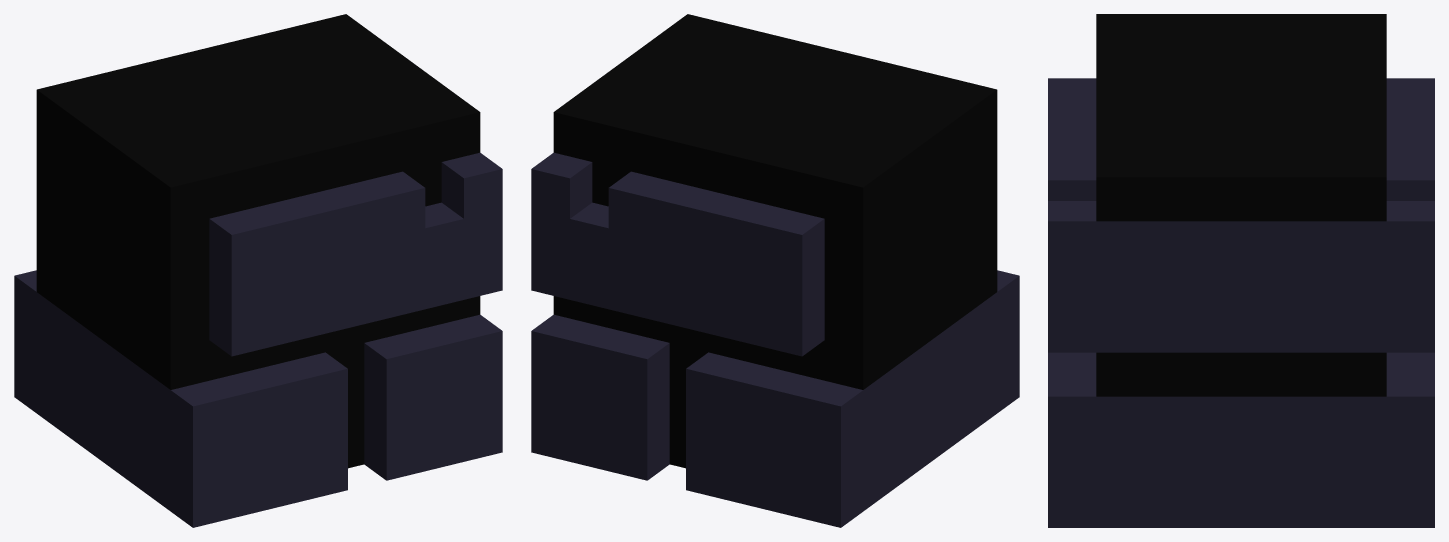
The model's file is wall_block_2.fbx.
3 views of the same model, side by side, from view 1: azimuth 30°, elevation 25°; view 2: azimuth 150°, elevation 25°; view 3: azimuth 270°, elevation 25° (orthographic). The views are drawn at different scales.
Visible parts, largest first — view 1: wall_block_2; view 2: wall_block_2; view 3: wall_block_2.
Part boxes in pixels (box(x1,y1,x2,y2)): wall_block_2: box(14, 14, 502, 527); wall_block_2: box(531, 14, 1019, 527); wall_block_2: box(1048, 14, 1434, 527).
Size of the model in its own units: 8 by 8 by 8.
1 material, 1 textured.
